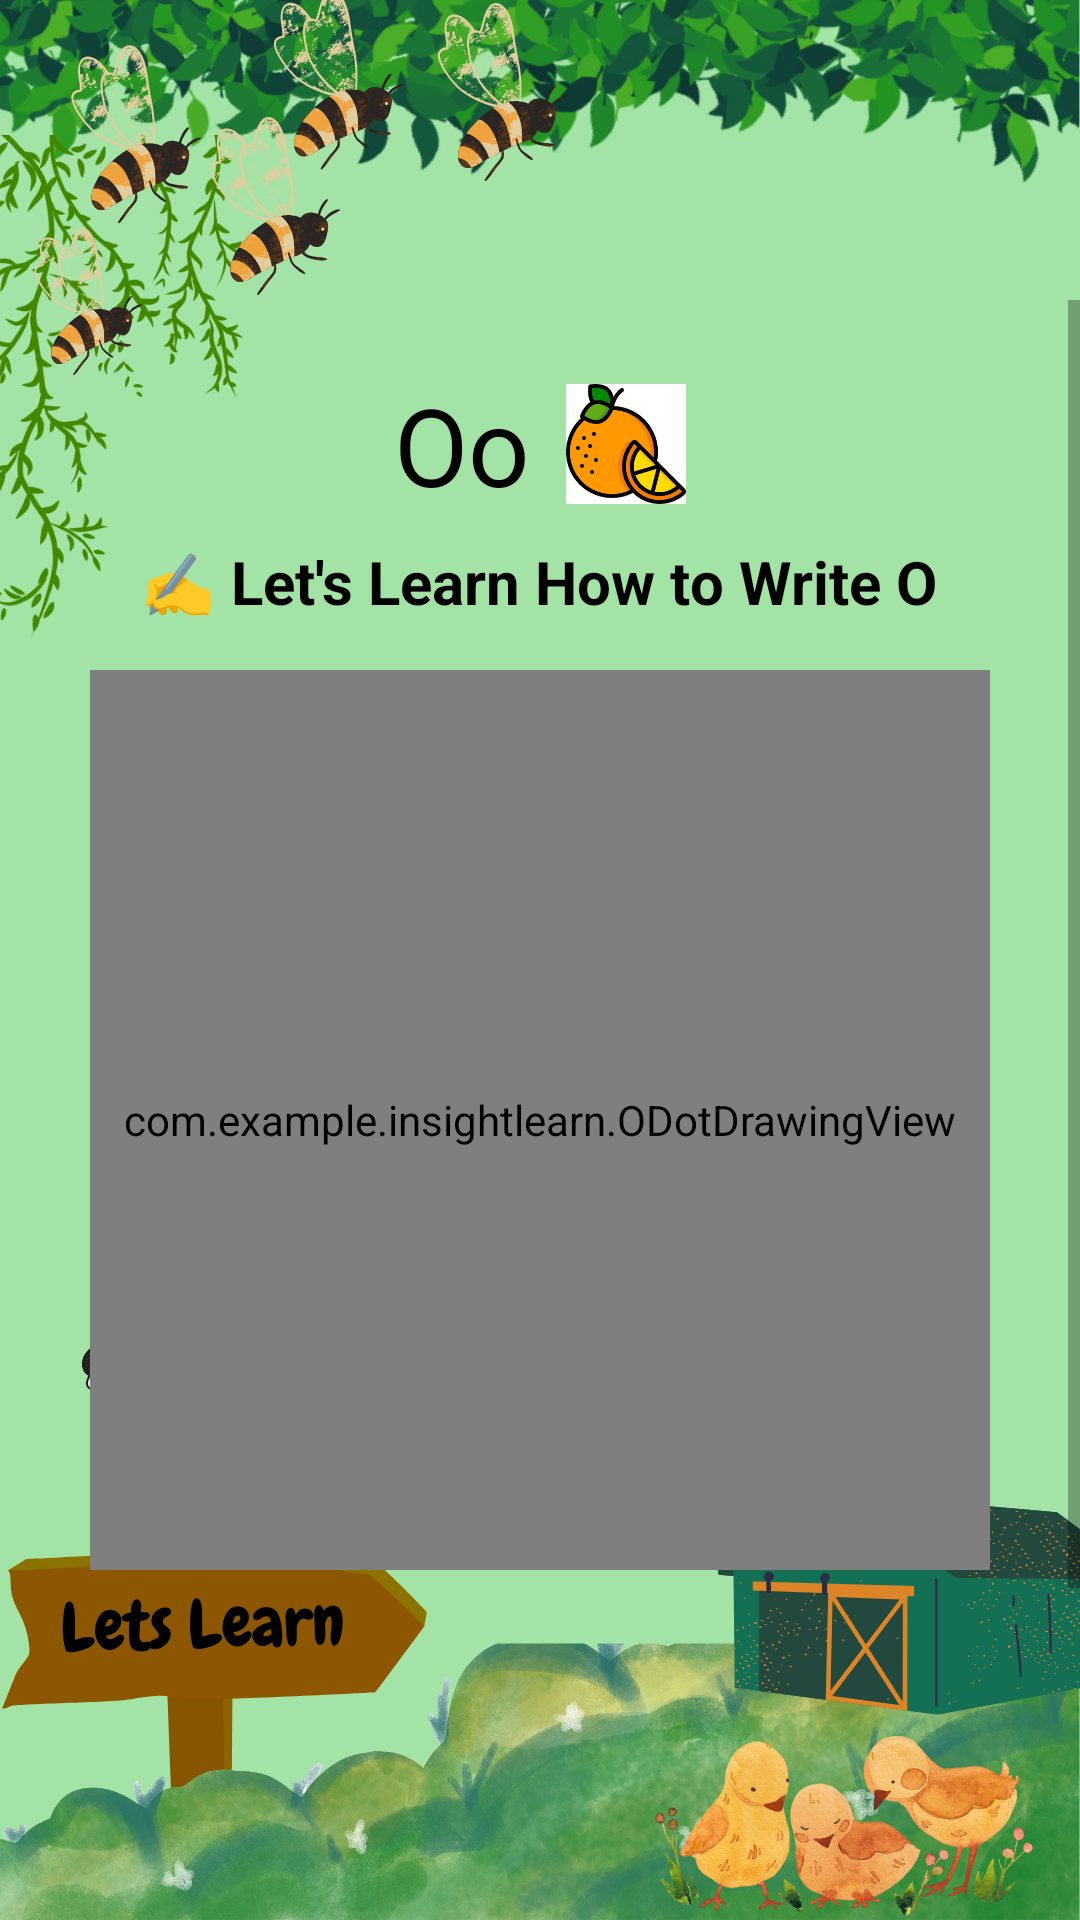

Icon click points for this 1080px x 1920px phone screenshot, format (x,y):
Orange: (626,444)
